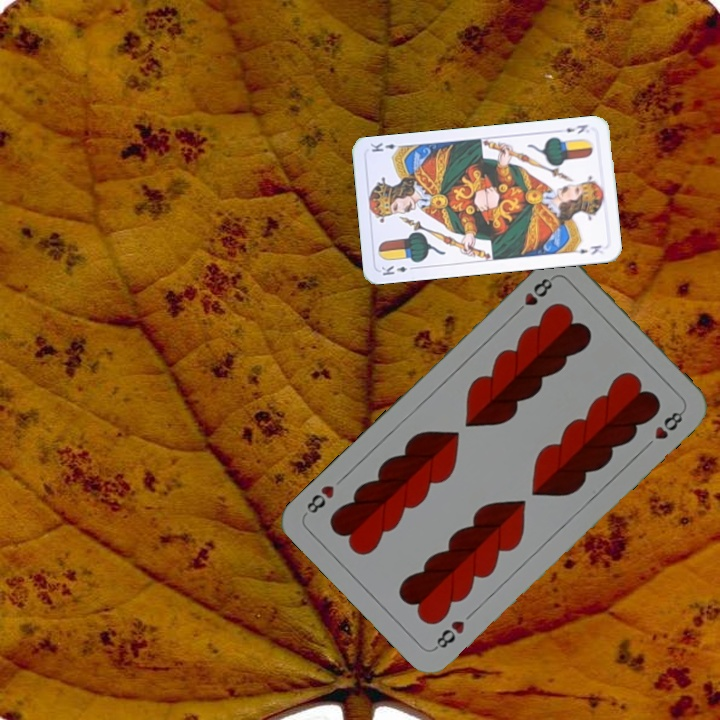EK: (377, 262, 418, 278), (562, 120, 590, 136)
H8: (510, 272, 557, 318), (430, 616, 468, 653)
